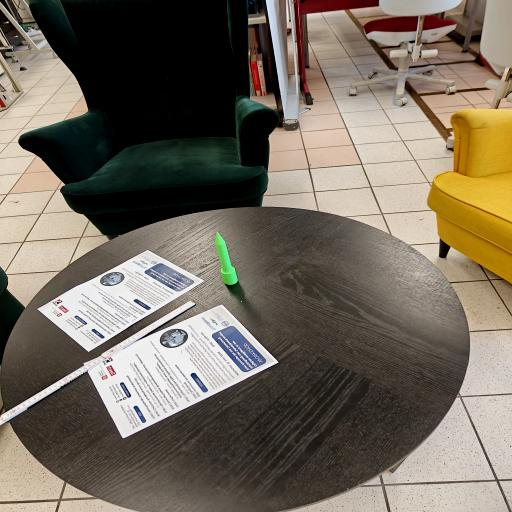Probe-Detection: (215, 232, 238, 285)
